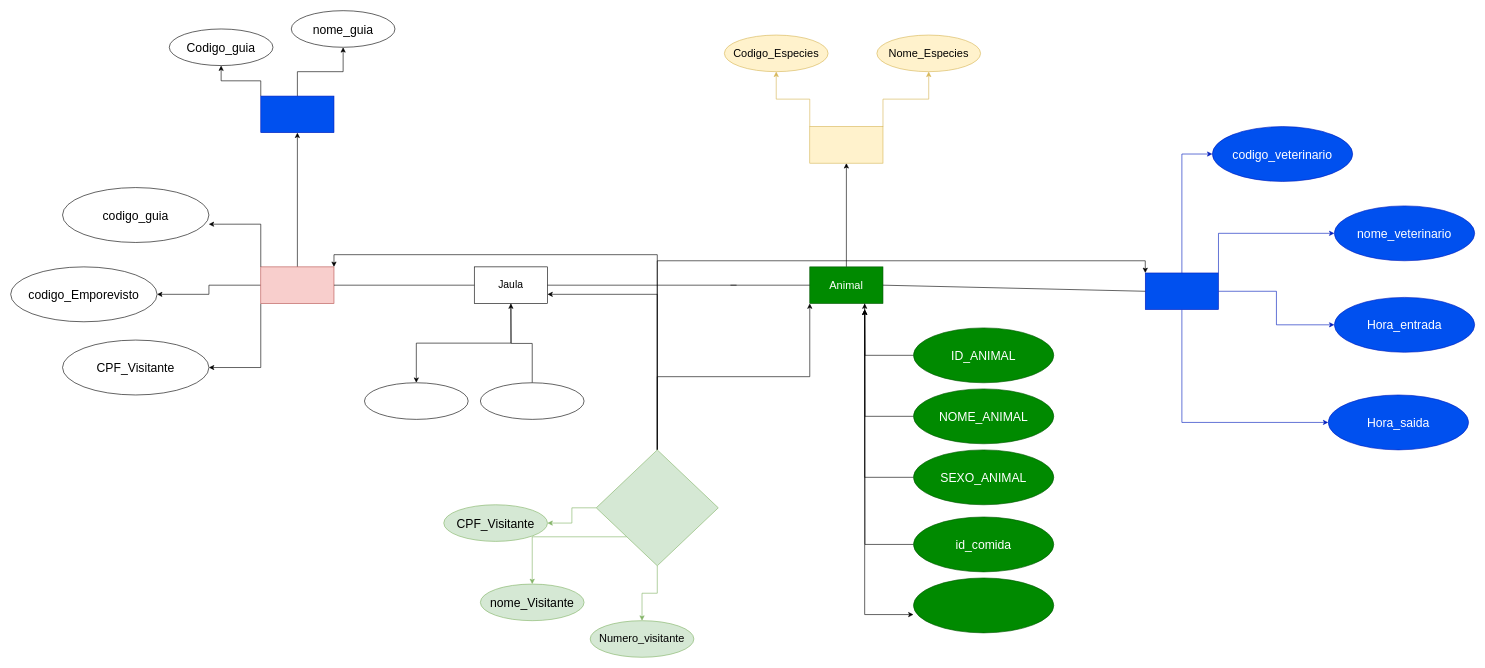
The diagram is 1485 pixels wide and 668 high, and some of its shapes have lost their labels. Here are the shapes that lost their labels. From the top down, the centre of each, then its label:
[297,114]: Guias
[846,144]: Especies
[297,284]: Emprevistos
[1181,291]: Veterinarios
[416,400]: codigo_jaula
[532,400]: nome_jaula
[657,507]: ZOOLOGICO
[983,605]: Id_especie
